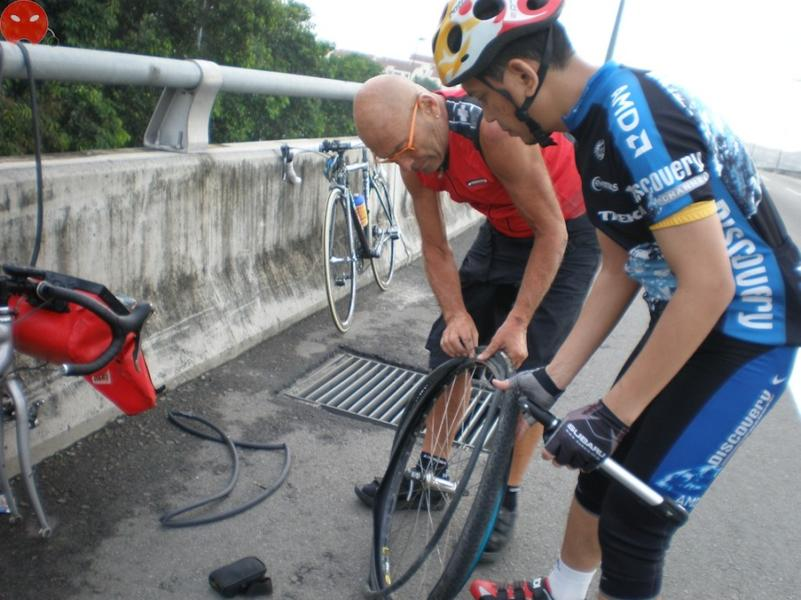person: (353, 75, 604, 549)
